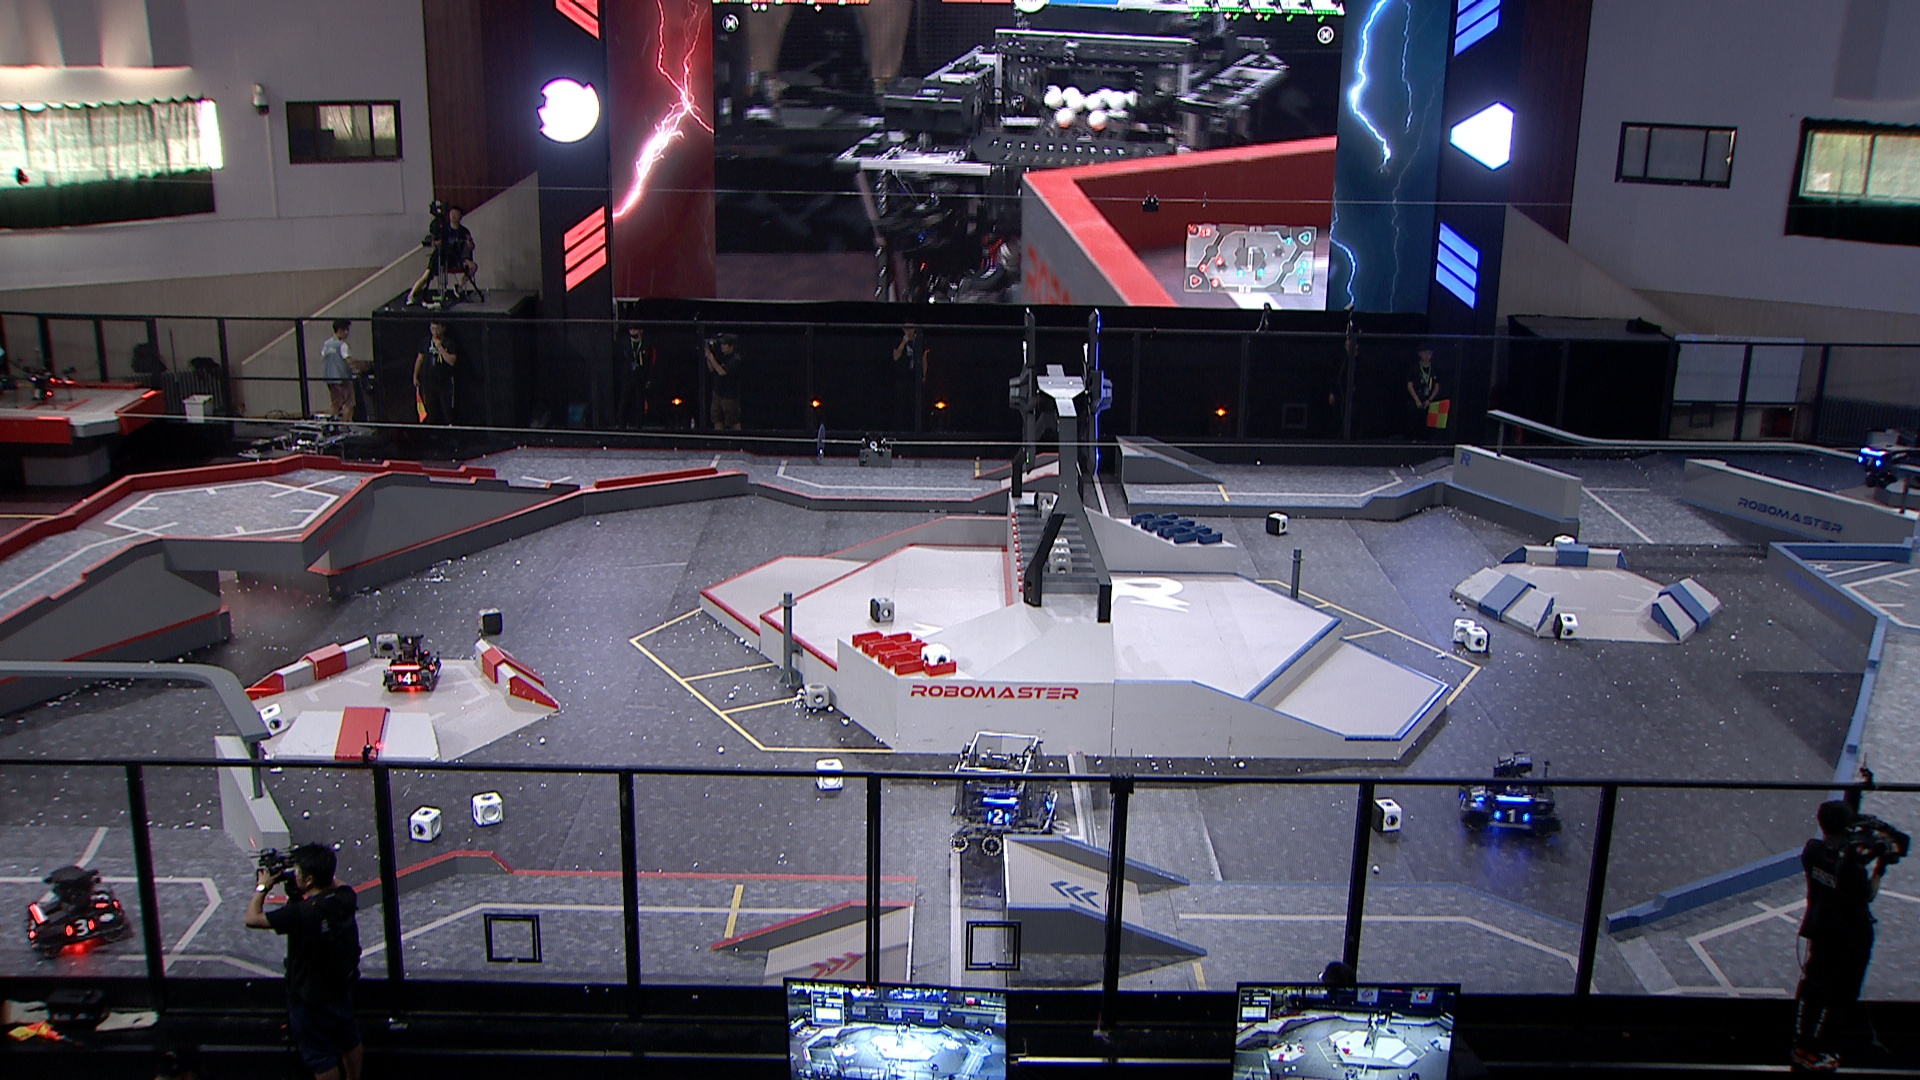armor: (63, 916, 98, 940), (1494, 808, 1532, 825), (984, 808, 1011, 827), (88, 889, 109, 911), (1855, 455, 1883, 469), (25, 918, 40, 943), (1456, 793, 1472, 814), (1472, 785, 1487, 804), (396, 671, 418, 684), (1044, 793, 1055, 812), (427, 659, 440, 674)
car: (949, 728, 1060, 858), (22, 864, 133, 956), (1456, 754, 1561, 840), (272, 411, 357, 495), (231, 439, 306, 513), (380, 628, 444, 692)
ignore: (827, 26, 1284, 309)
watcher: (1855, 440, 1913, 491)
